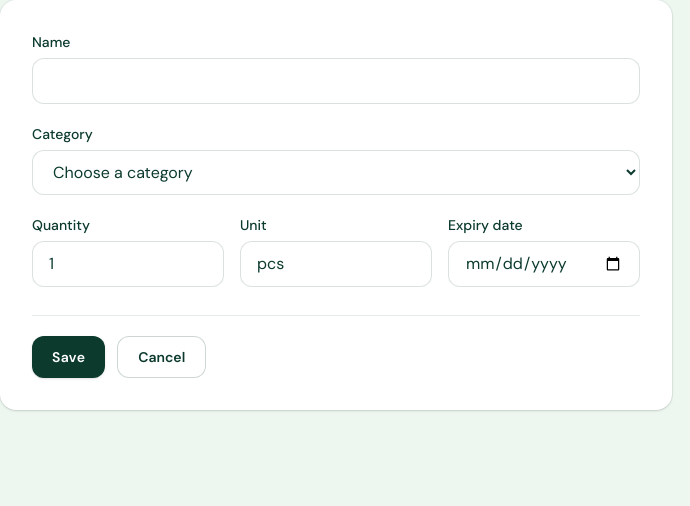
Test: ItemForm › shows field errors without submitting an empty form
The image size is (690, 506).
Click the button "Save": (69, 357) [32,336,105,378]
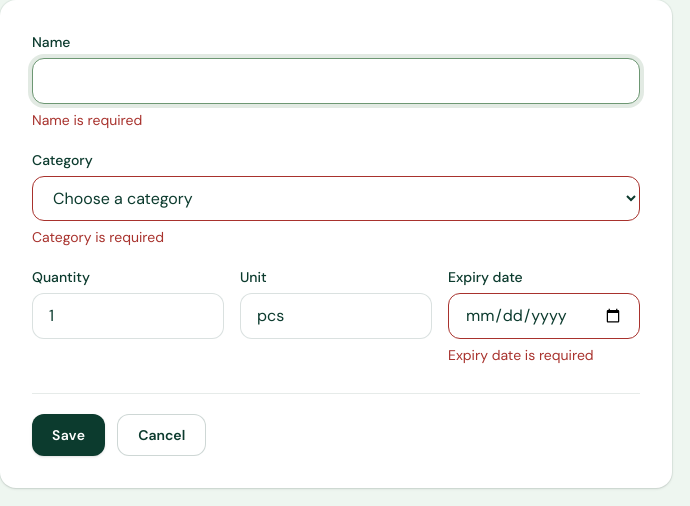
Now the text "Name is required" is shown, box [32,111,142,129]
Now the text "Category is required" is shown, box [32,228,164,246]
Now the text "Expiry date is required" is shown, box [448,346,594,364]
